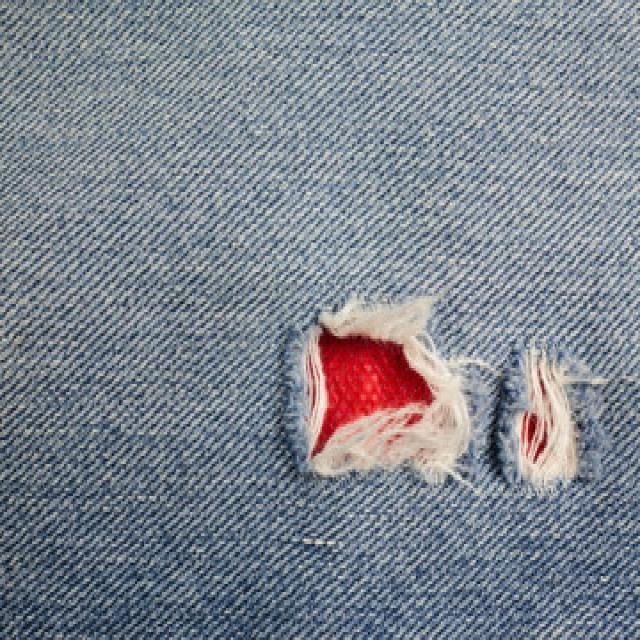Hole: (288, 297, 472, 484), (517, 349, 578, 488)
